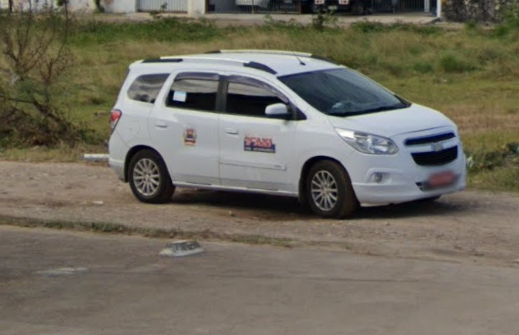car: (106, 46, 471, 220)
